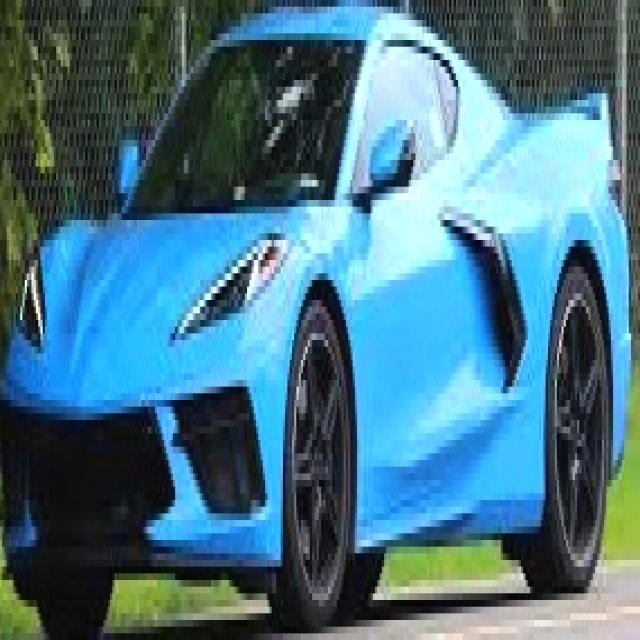blue: (2, 20, 640, 593)
